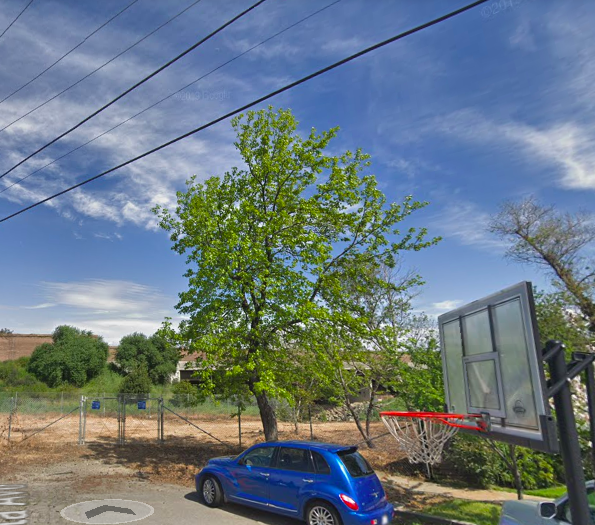tree: (150, 103, 441, 441)
